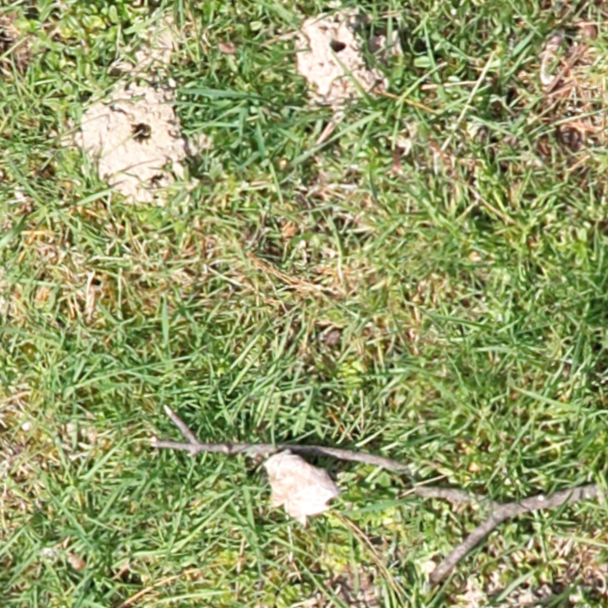nest: (74, 85, 205, 204), (292, 10, 394, 103)
